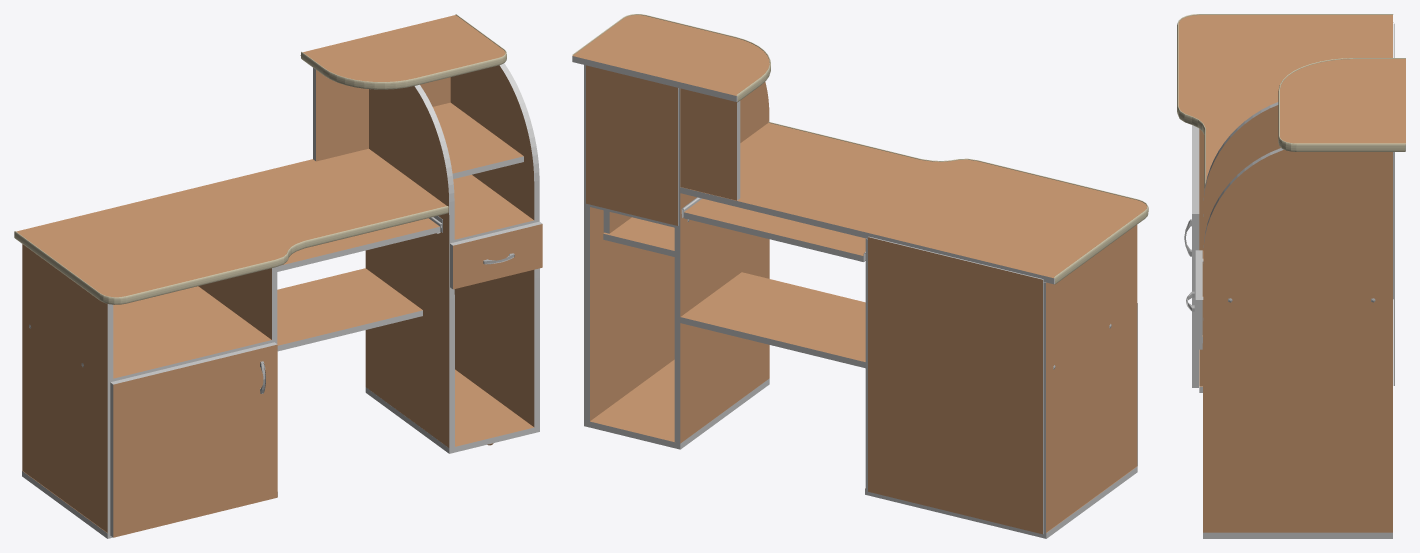
Rendered from sweethome3d-blendswap-cc-0-desk-74.glb.
The picture shows the model from 3 angles, left to right: view 1: azimuth 30°, elevation 25°; view 2: azimuth 150°, elevation 25°; view 3: azimuth 270°, elevation 25°; orthographic projection. The views are drawn at different scales.
Parts seen in each view (by area): view 1: Desk_desk_main, Contour; view 2: Desk_desk_main, Contour; view 3: Desk_desk_main, Contour.
Boxes of the visible parts, <box> form: Desk_desk_main: <box>16,15,542,538</box>; Contour: <box>14,14,506,304</box>; Desk_desk_main: <box>572,15,1146,538</box>; Contour: <box>572,14,1148,284</box>; Desk_desk_main: <box>1178,15,1405,538</box>; Contour: <box>1177,14,1405,190</box>.
Size of the model in its own units: 139 by 105 by 54.28.
